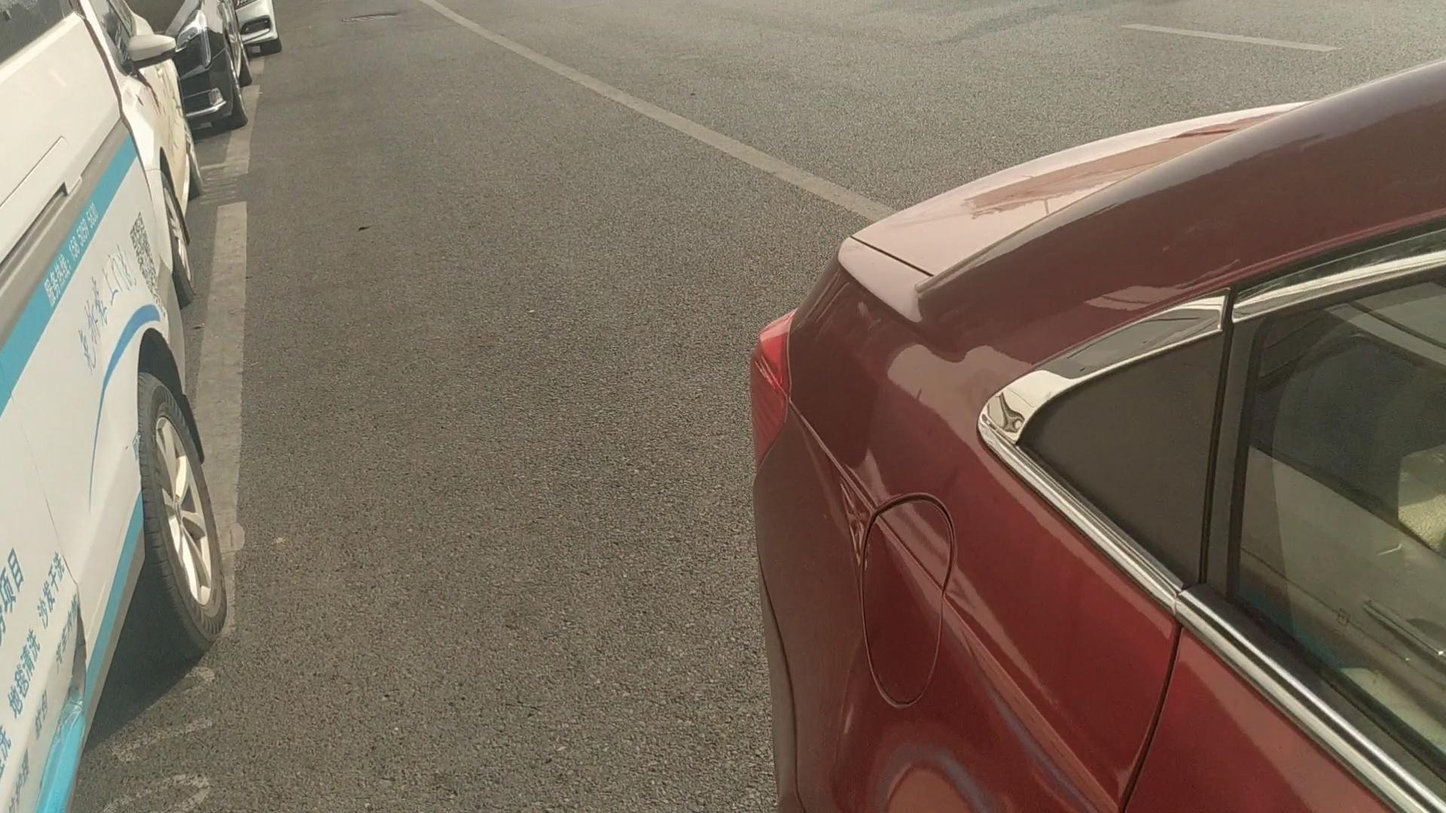car: (749, 58, 1440, 808), (2, 2, 240, 801), (127, 1, 259, 136), (225, 1, 282, 57)
